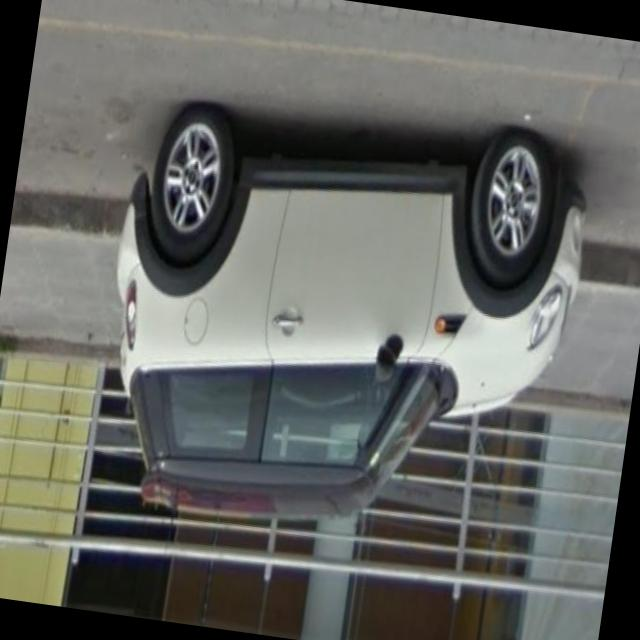car: (80, 71, 594, 570)
